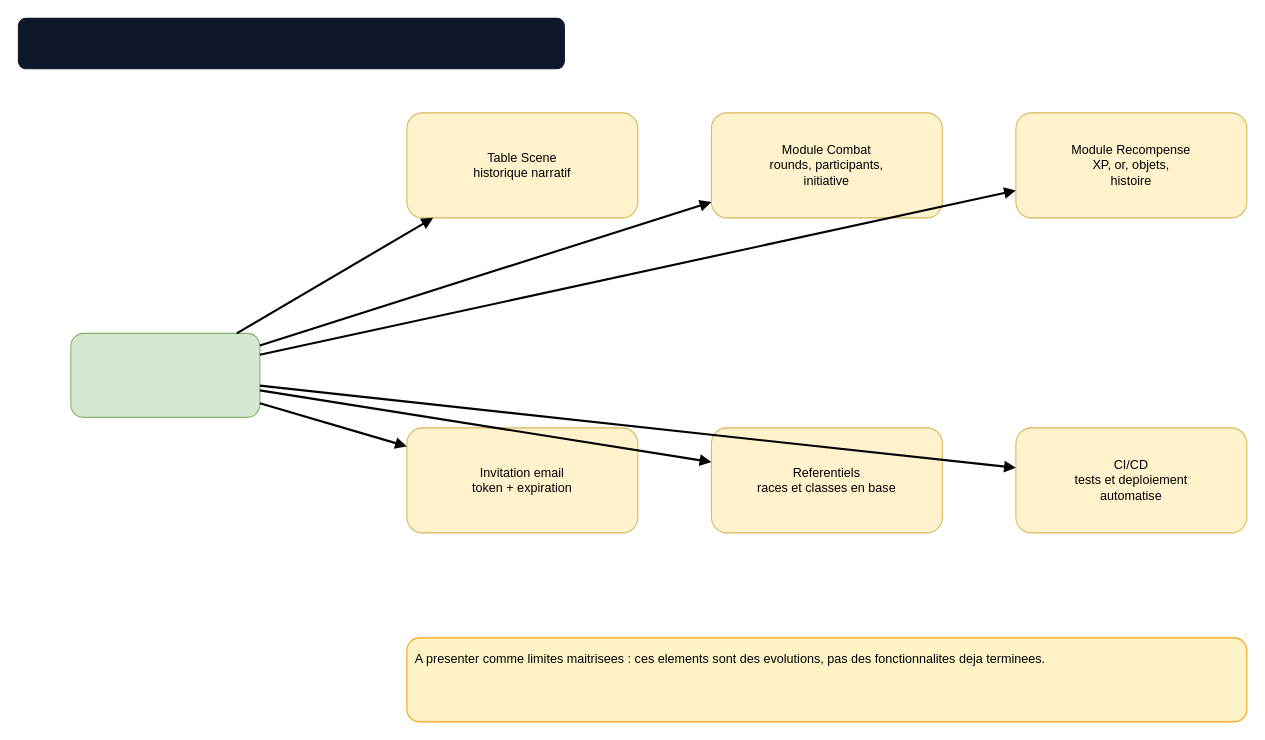
Some shapes in this 1265 by 740 pixel diagram are drawn without their labels. Here are the shapes that lost their labels. From the top down, the centre of each, then its label:
At pixel 290 43: "Evolutions V2".
At pixel 165 374: "MVP actuel".
